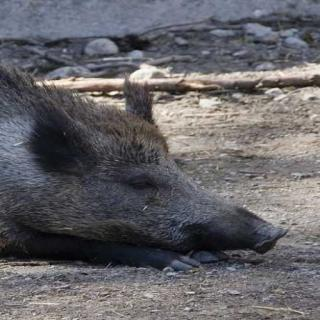Pig: (0, 31, 290, 284)
